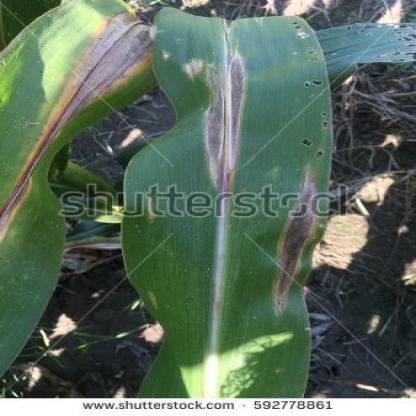Corn leaf blight: (126, 9, 322, 391), (1, 19, 151, 343)
